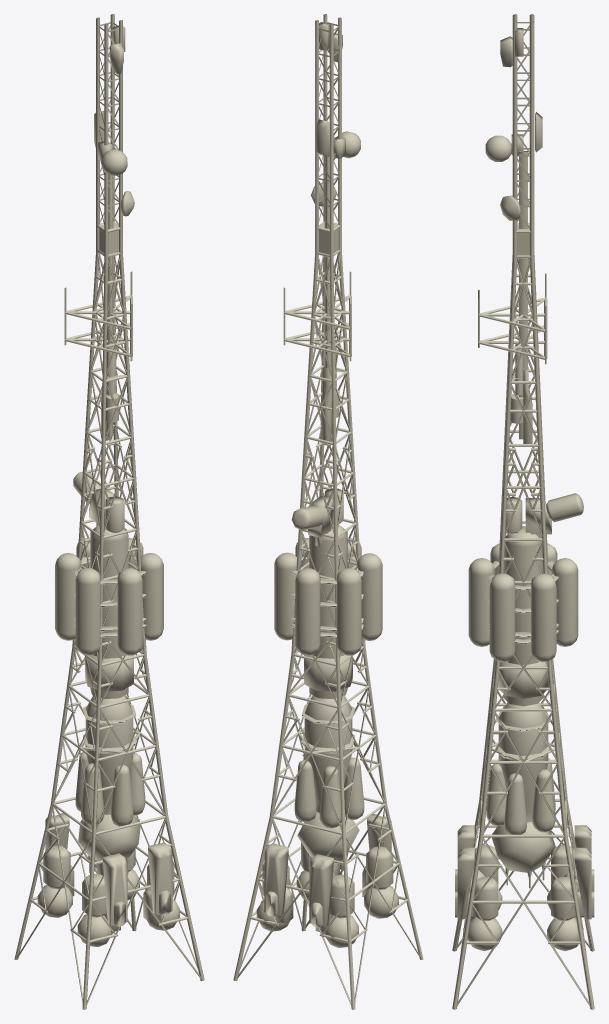
The model's file is Frigate_Pursuit_EXPORT.dae.
3 renders of one model, left to right at view 1: azimuth 30°, elevation 25°; view 2: azimuth 150°, elevation 25°; view 3: azimuth 270°, elevation 25°, orthographic.
Visible parts, largest first — view 1: Generic; view 2: Generic; view 3: Generic.
Boxes of the visible parts, x1,y1,x2,y2 form: Generic: [14, 14, 204, 1009]; Generic: [233, 14, 423, 1009]; Generic: [452, 14, 594, 1009].
Size of the model in its own units: 17.17 by 128 by 17.17.
